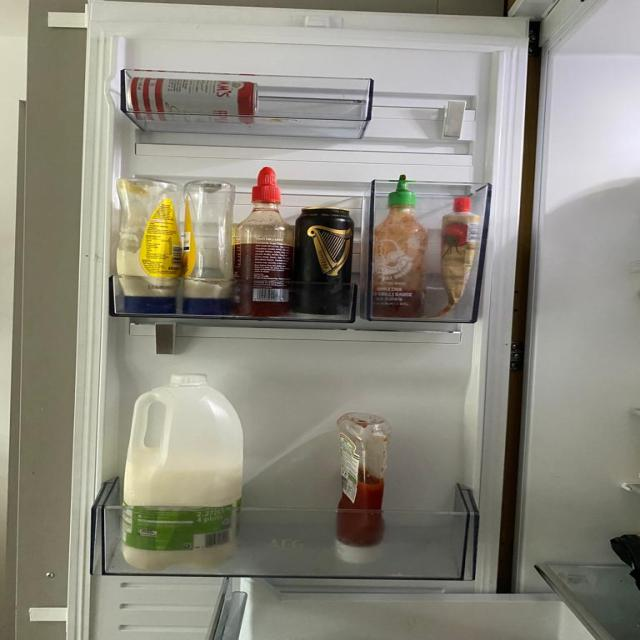Leche: (120, 371, 244, 567)
